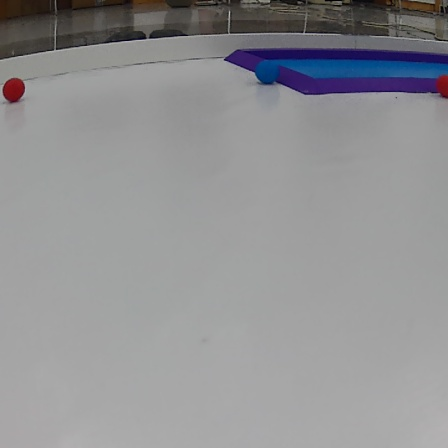blue: (257, 62, 280, 81)
blue_aim: (219, 47, 448, 98)
red: (2, 80, 27, 100), (436, 77, 448, 92)
